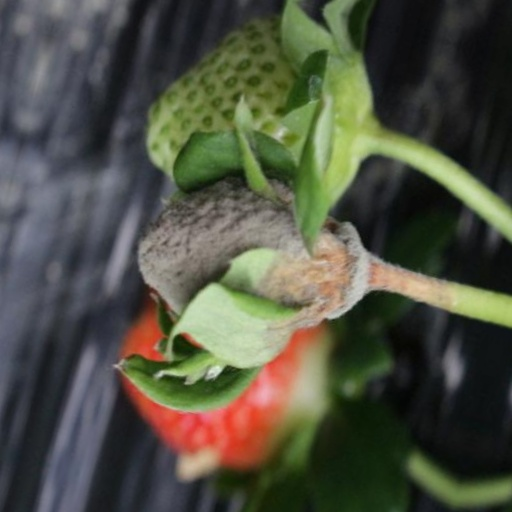Gray Mold: (120, 166, 373, 334)
